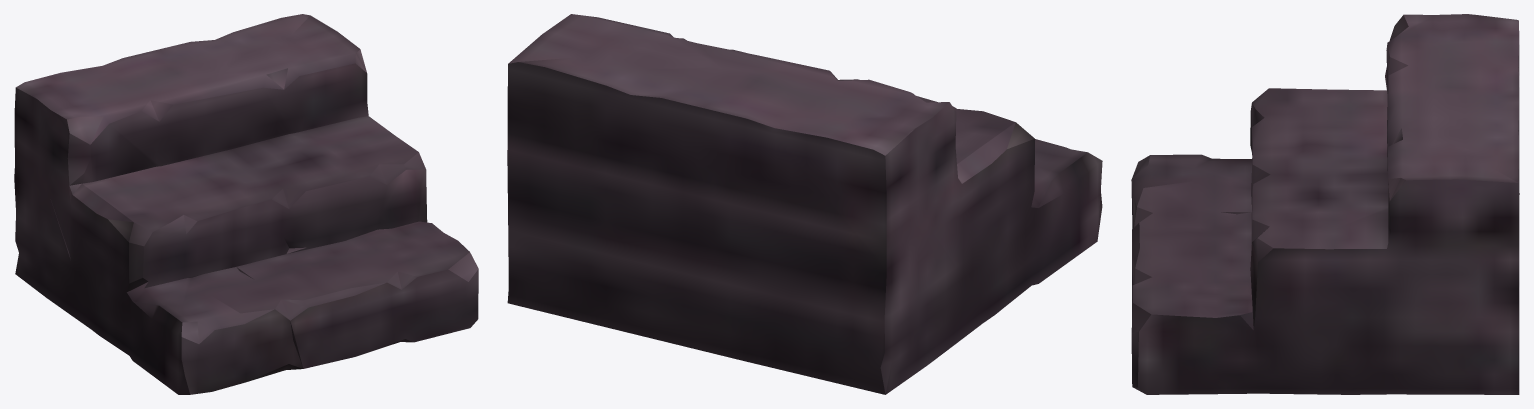
Rendered from env_ruin_steps-5ygZRr3K.glb.
The picture shows the model from 3 angles, left to right: view 1: azimuth 30°, elevation 25°; view 2: azimuth 150°, elevation 25°; view 3: azimuth 270°, elevation 25°; orthographic projection. The views are drawn at different scales.
Visible parts, largest first — view 1: env_ruin_steps_hy_v1; view 2: env_ruin_steps_hy_v1; view 3: env_ruin_steps_hy_v1.
Part boxes in pixels (x1,y1,x2,y2): env_ruin_steps_hy_v1: [14, 14, 478, 394]; env_ruin_steps_hy_v1: [507, 14, 1102, 394]; env_ruin_steps_hy_v1: [1131, 14, 1519, 394].
Bounding box in the file's own units: 0.9985 × 0.616 × 0.9954.
Materials: 1 (1 with a texture image).
